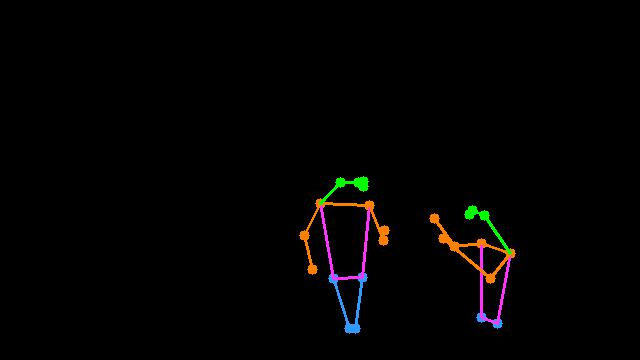normal: (279, 154, 528, 360)
